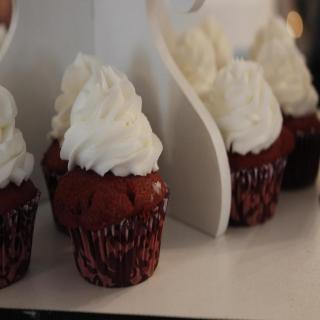Muffin: (167, 13, 320, 228), (41, 50, 107, 236), (0, 84, 41, 289)
